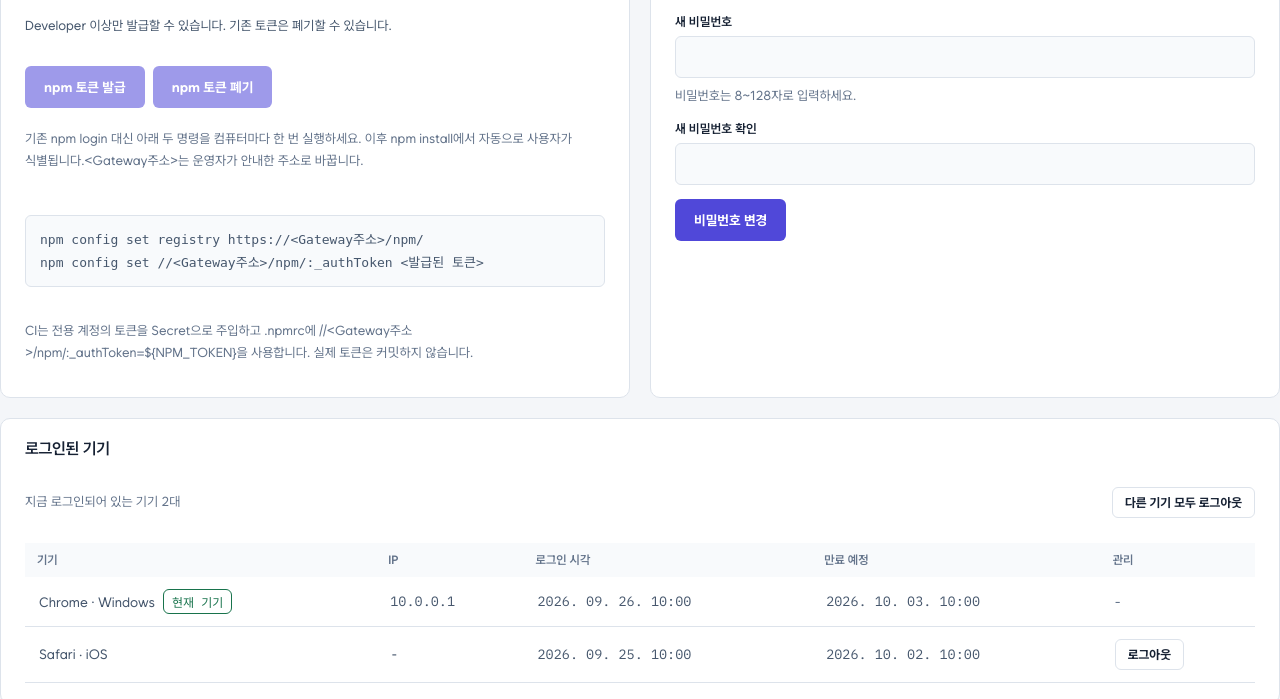
Test: sessions › shows why a device could not be signed out and hides the bulk button when alone
(page scrolled)
Click the button with aria-label "Safari · iOS 로그아웃": point(1149, 654) [1115,639,1184,670]
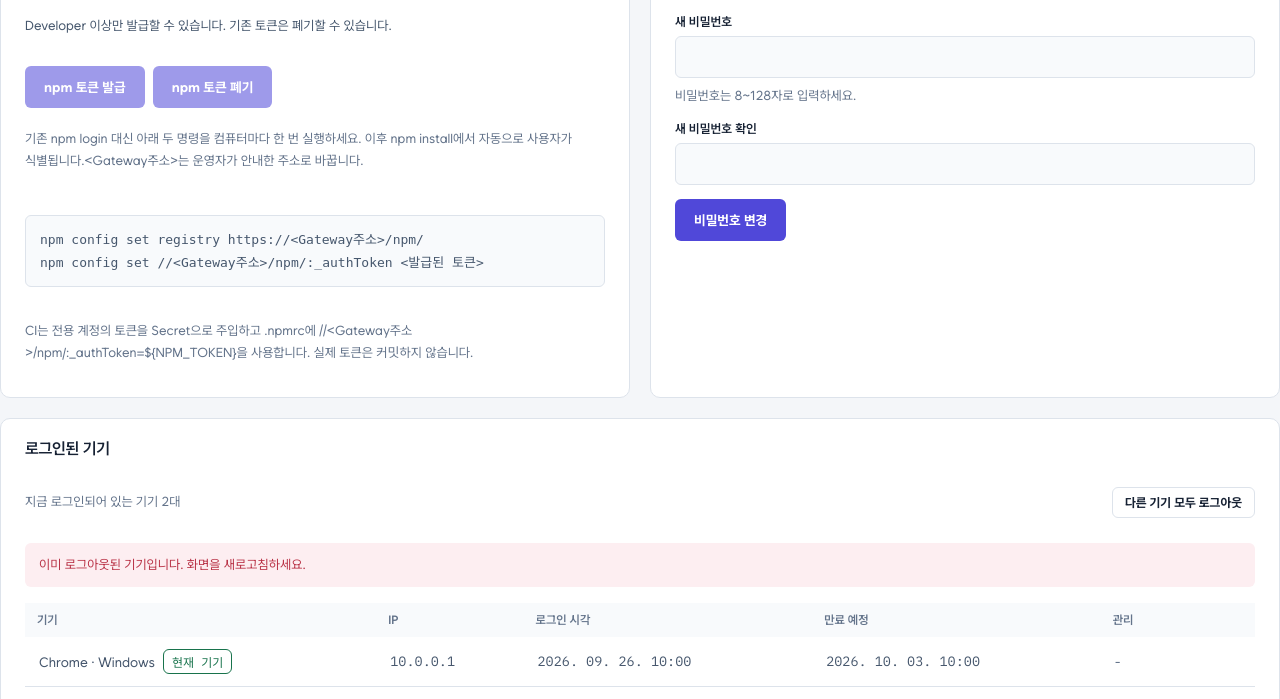
Expected: the message shows "이미 로그아웃된 기기입니다.", [39,557,306,572]
